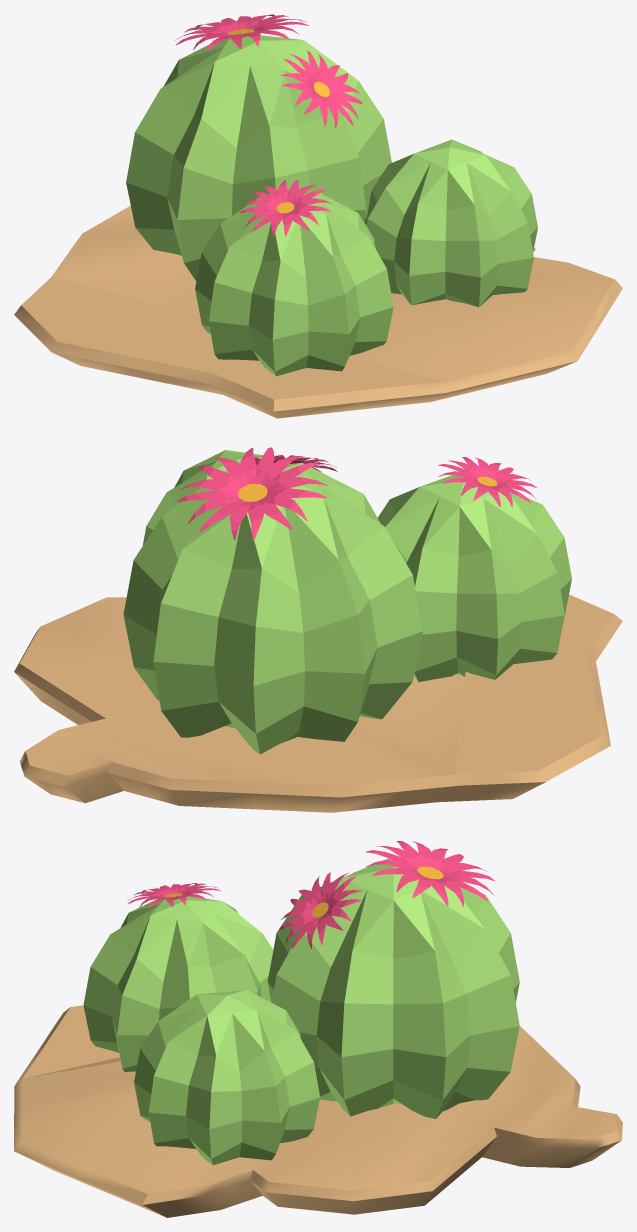
File: cactus.glb
3 renders of one model, top to bottom at view 1: azimuth 30°, elevation 25°; view 2: azimuth 150°, elevation 25°; view 3: azimuth 270°, elevation 25°, orthographic. The views are drawn at different scales.
Parts seen in each view (by area): view 1: Plane, Cube, Cube002, Cube001, Circle002, Circle001, Circle; view 2: Plane, Cube, Cube002, Circle, Circle001, Cube001; view 3: Plane, Cube, Cube001, Cube002, Circle, Circle002, Circle001.
Part boxes in pixels (x1,y1,x2,y2): Plane: [14, 205, 622, 418]; Cube: [126, 35, 391, 280]; Cube002: [195, 191, 393, 376]; Cube001: [365, 139, 537, 307]; Circle002: [280, 51, 362, 128]; Circle001: [239, 180, 331, 236]; Circle: [175, 14, 308, 50]; Plane: [14, 594, 622, 812]; Cube: [123, 462, 422, 754]; Cube002: [378, 475, 571, 681]; Circle: [177, 447, 328, 540]; Circle001: [438, 457, 536, 507]; Cube001: [142, 450, 263, 545]; Plane: [14, 1005, 622, 1217]; Cube: [267, 858, 519, 1118]; Cube001: [134, 990, 320, 1165]; Cube002: [83, 896, 273, 1071]; Circle: [365, 841, 494, 906]; Circle002: [279, 872, 362, 948]; Circle001: [127, 883, 220, 908].
Bounding box in the file's own units: 4.01 × 2.03 × 4.22.
